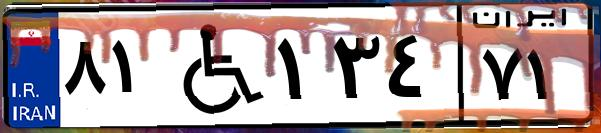1: (270, 28, 330, 110), (525, 38, 570, 115), (110, 28, 158, 98)
3: (330, 28, 385, 110)
4: (385, 28, 445, 110)
7: (475, 38, 525, 113)
8: (57, 26, 110, 100)
ژ (معلولین و جانبازان): (158, 12, 270, 120)
